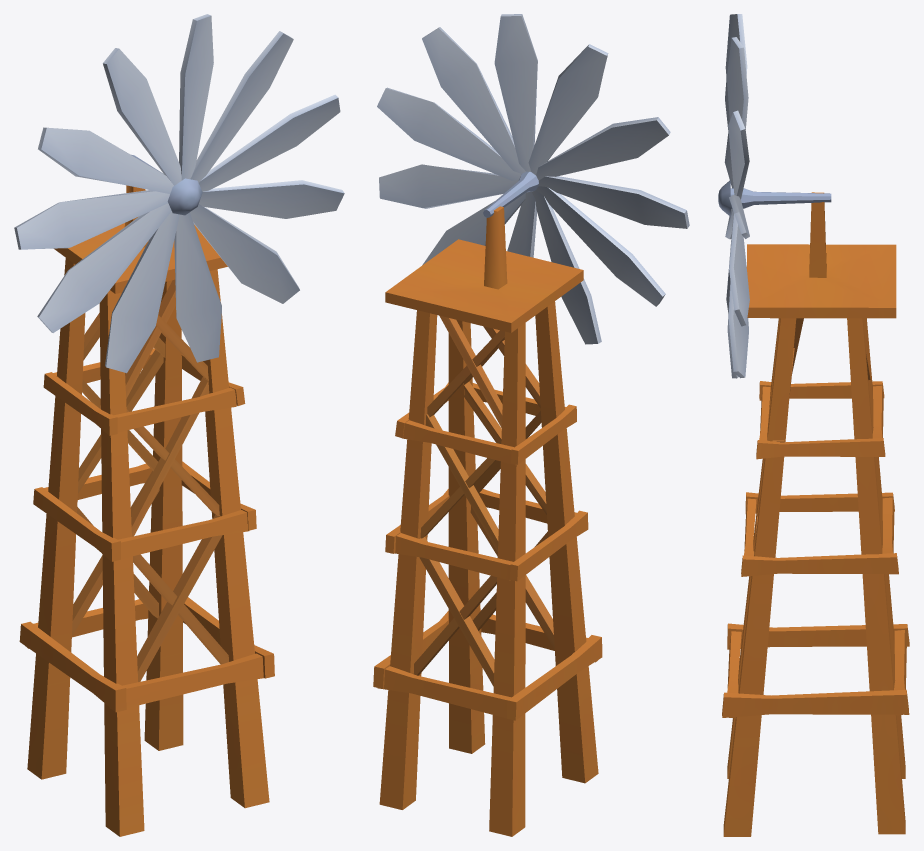
Rendered from Wetryak.fbx.
The picture shows the model from 3 angles, left to right: view 1: azimuth 30°, elevation 25°; view 2: azimuth 150°, elevation 25°; view 3: azimuth 270°, elevation 25°; orthographic projection. The views are drawn at different scales.
Visible parts, largest first — view 1: Stand, Lopasti; view 2: Stand, Lopasti; view 3: Stand, Lopasti.
Boxes of the visible parts, x1,y1,x2,y2 form: Stand: (19,185,274,836); Lopasti: (14,14,344,373); Stand: (373,206,602,836); Lopasti: (377,14,689,344); Stand: (722,192,909,836); Lopasti: (718,14,831,378).
Size of the model in its own units: 1.81 by 4.19 by 0.947.
